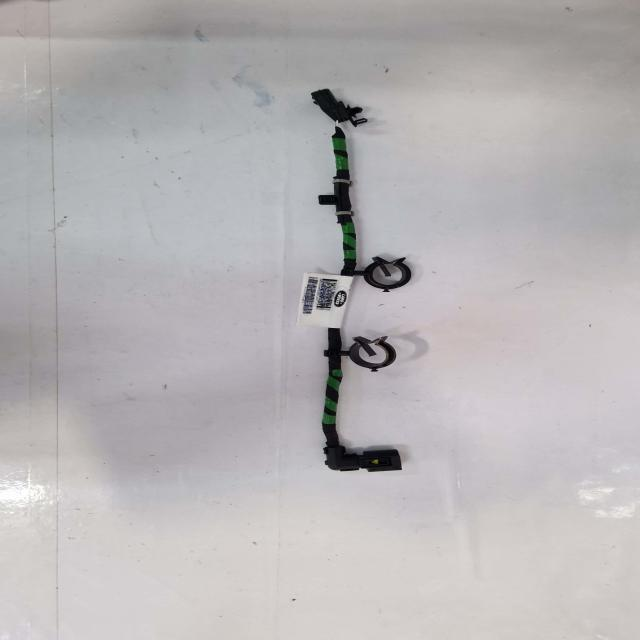AJ20_D6_Cable: (318, 129, 356, 278), (323, 329, 347, 448)
Clip: (352, 258, 412, 292), (341, 336, 396, 371)
Connector: (310, 91, 365, 129), (325, 445, 403, 471)
Info: (296, 274, 354, 329)
strap: (332, 179, 352, 186), (334, 212, 354, 218)
